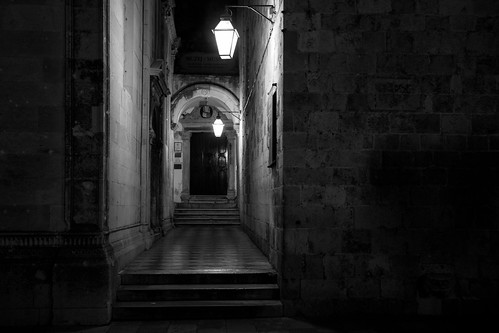door: (186, 130, 235, 202)
wall: (278, 1, 499, 308), (1, 1, 115, 314)
